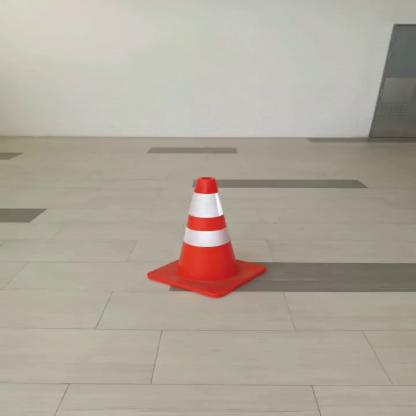cone: (134, 173, 275, 301)
